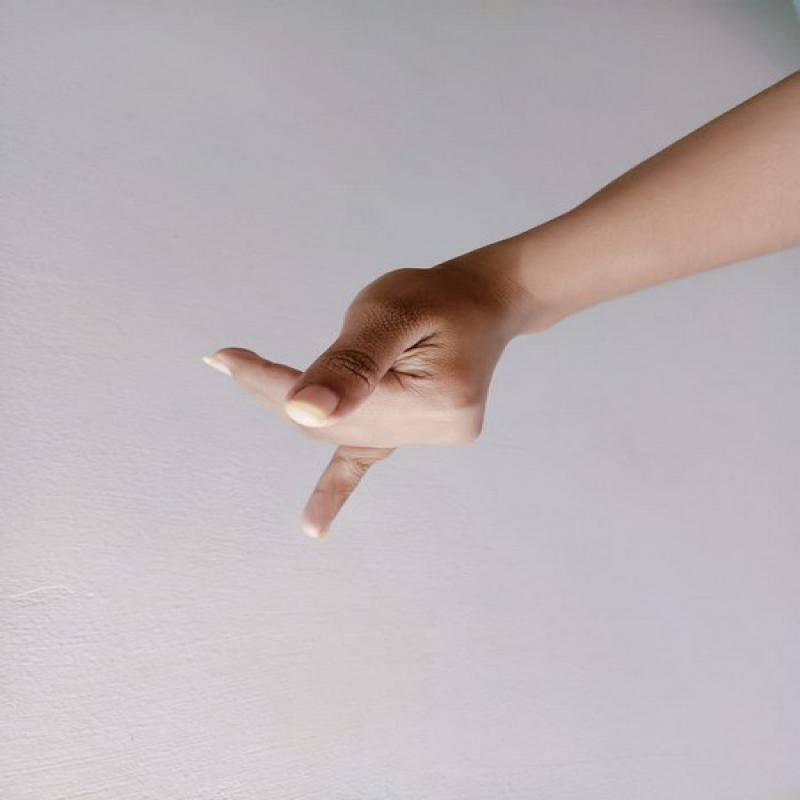Kartharee Mukham: (181, 245, 521, 564)
